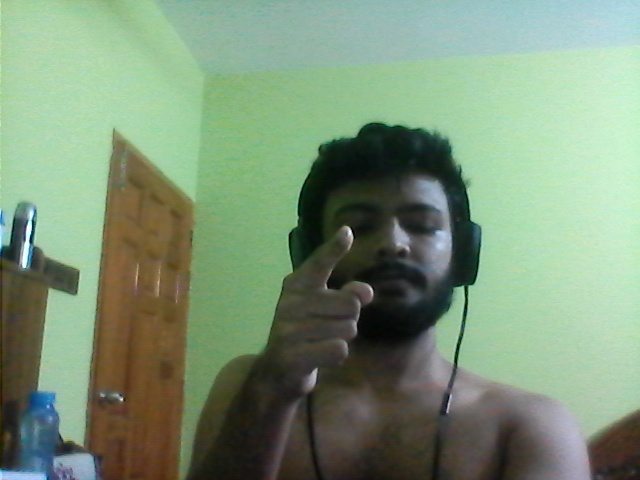You: (269, 216, 376, 410)
